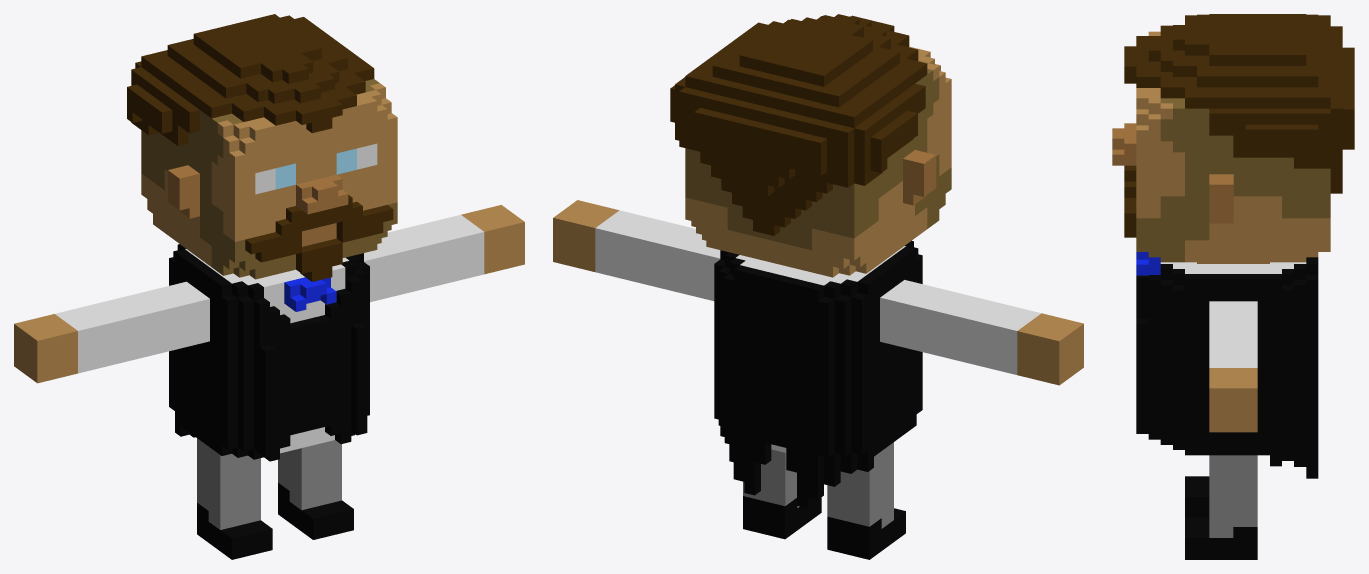
Rendered from Char_Male_v2.obj.
The picture shows the model from 3 angles, left to right: view 1: azimuth 30°, elevation 25°; view 2: azimuth 150°, elevation 25°; view 3: azimuth 270°, elevation 25°; orthographic projection. The views are drawn at different scales.
Bounding box in the file's own units: 4.8 × 4.5 × 2.
1 material, 1 textured.
